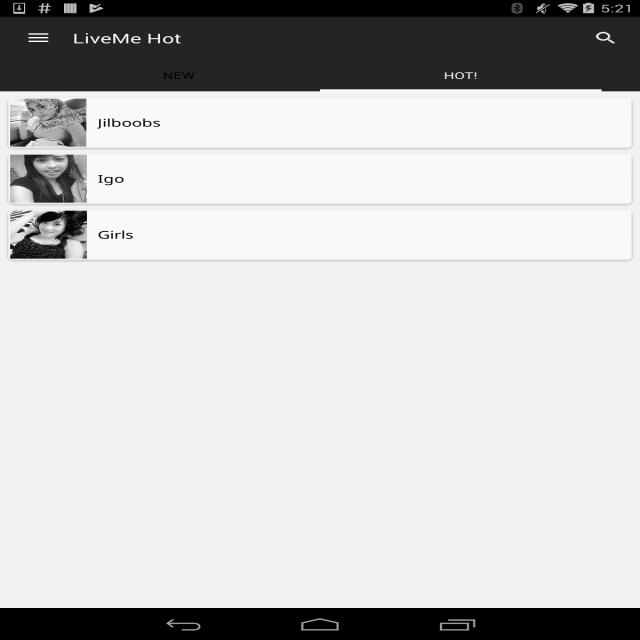ImageButton: (9, 19, 68, 57)
ImageView: (10, 98, 87, 146), (10, 154, 87, 202), (10, 210, 87, 258)
TextView: (97, 115, 630, 130), (97, 171, 630, 186), (97, 227, 630, 242), (72, 29, 182, 47), (580, 22, 632, 54), (444, 69, 477, 82), (163, 69, 195, 82)
